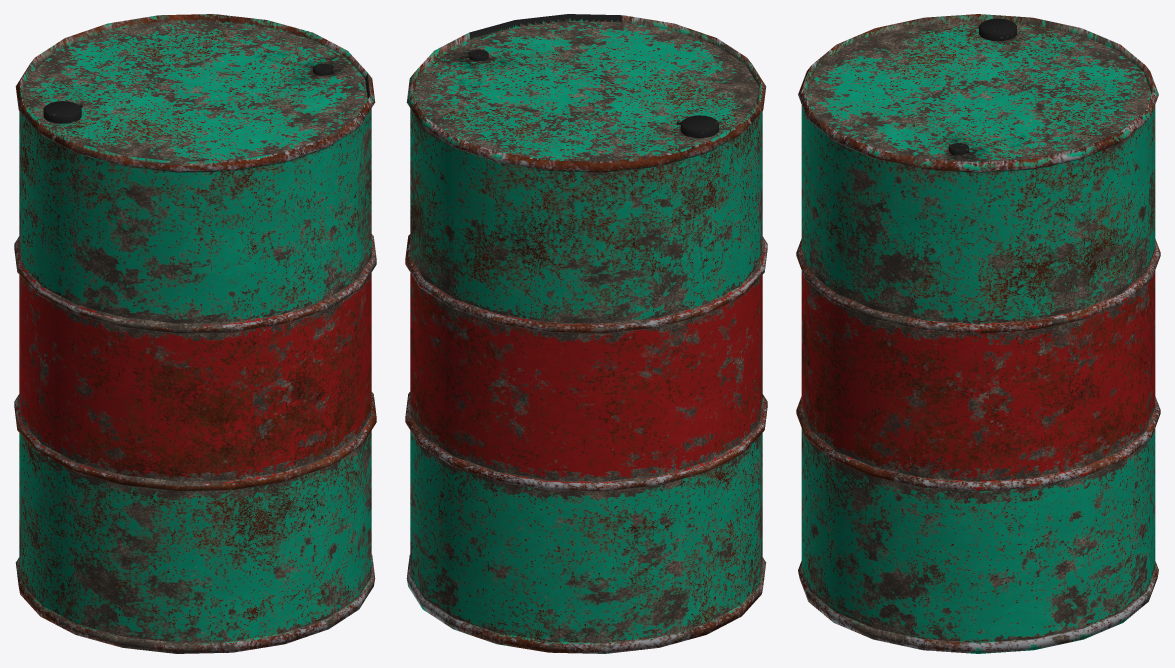
The model's file is Green_Barrel_1.1.fbx.
The picture shows the model from 3 angles, left to right: view 1: azimuth 30°, elevation 25°; view 2: azimuth 150°, elevation 25°; view 3: azimuth 270°, elevation 25°; orthographic projection.
Visible parts, largest first — view 1: Green_Barrel; view 2: Green_Barrel; view 3: Green_Barrel.
Part boxes in pixels (x1=…): Green_Barrel: x1=14, y1=14, x2=376, y2=653; Green_Barrel: x1=405, y1=14, x2=767, y2=653; Green_Barrel: x1=796, y1=14, x2=1160, y2=653.
Bounding box in the file's own units: 73.89 × 110 × 73.89.
Materials: 1 (1 with a texture image).
